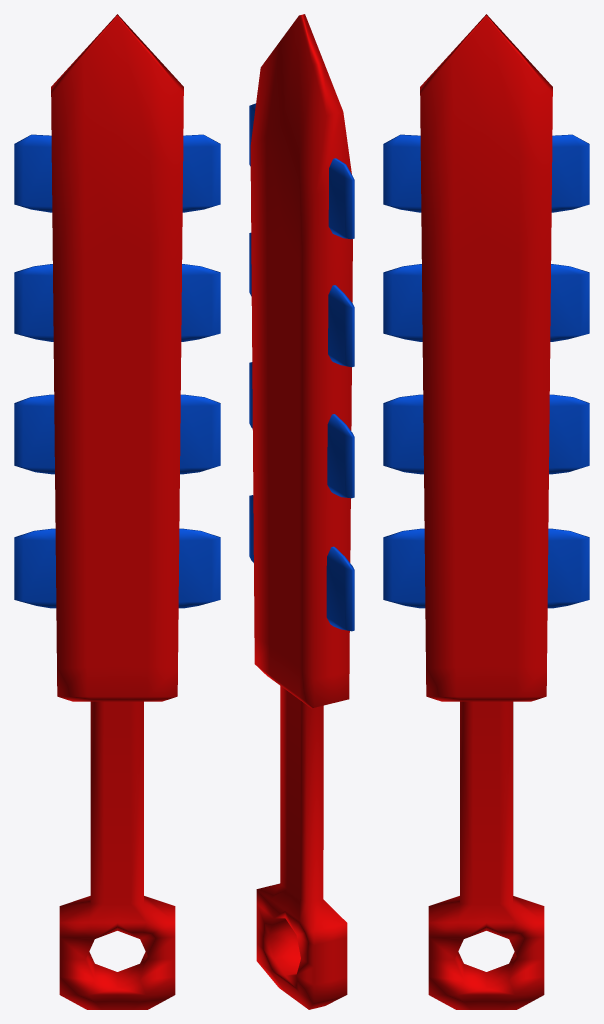
Rendered from Macuahuitl_15_low.fbx.
The picture shows the model from 3 angles, left to right: view 1: azimuth 90°, elevation 25°; view 2: azimuth 210°, elevation 25°; view 3: azimuth 270°, elevation 25°; orthographic projection.
Visible parts, largest first — view 1: macuahuitl_wood_low, macuahuitl_blade_low, macuahuitl_blade_1_low, macuahuitl_blade_2_low, macuahuitl_blade_3_low; view 2: macuahuitl_wood_low, macuahuitl_blade_low, macuahuitl_blade_1_low, macuahuitl_blade_3_low, macuahuitl_blade_2_low; view 3: macuahuitl_wood_low, macuahuitl_blade_low, macuahuitl_blade_1_low, macuahuitl_blade_2_low, macuahuitl_blade_3_low.
Boxes of the visible parts, x1=… form: macuahuitl_wood_low: x1=51, y1=14, x2=183, y2=1009; macuahuitl_blade_low: x1=14, y1=528, x2=220, y2=608; macuahuitl_blade_1_low: x1=14, y1=394, x2=220, y2=474; macuahuitl_blade_2_low: x1=14, y1=264, x2=220, y2=341; macuahuitl_blade_3_low: x1=14, y1=134, x2=220, y2=212; macuahuitl_wood_low: x1=250, y1=14, x2=352, y2=1009; macuahuitl_blade_low: x1=249, y1=495, x2=354, y2=631; macuahuitl_blade_1_low: x1=249, y1=362, x2=354, y2=498; macuahuitl_blade_3_low: x1=249, y1=103, x2=354, y2=239; macuahuitl_blade_2_low: x1=249, y1=232, x2=354, y2=367; macuahuitl_wood_low: x1=420, y1=14, x2=552, y2=1009; macuahuitl_blade_low: x1=383, y1=528, x2=589, y2=608; macuahuitl_blade_1_low: x1=383, y1=394, x2=589, y2=474; macuahuitl_blade_2_low: x1=383, y1=264, x2=589, y2=341; macuahuitl_blade_3_low: x1=383, y1=134, x2=589, y2=212.
Size of the model in its own units: 4.22 by 104 by 19.7.
